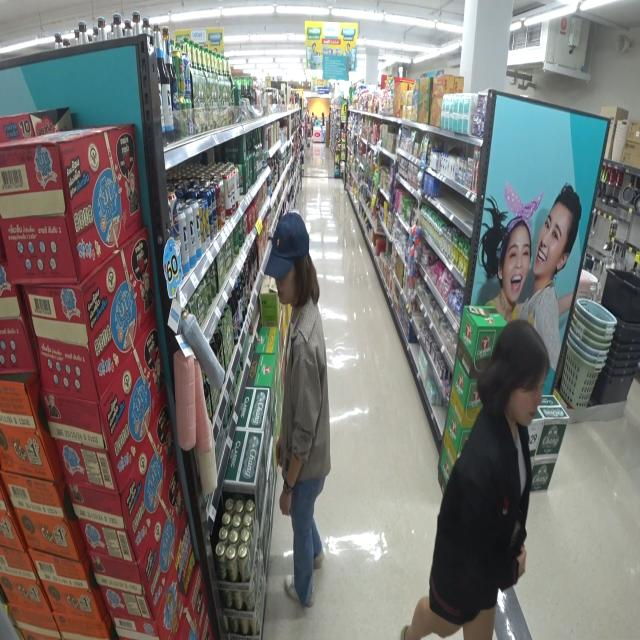shoplifting: (443, 321, 532, 640)
